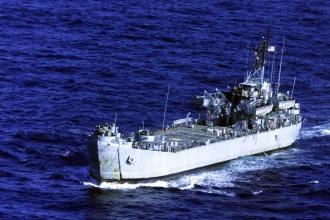Cargoship: (82, 38, 302, 180)
